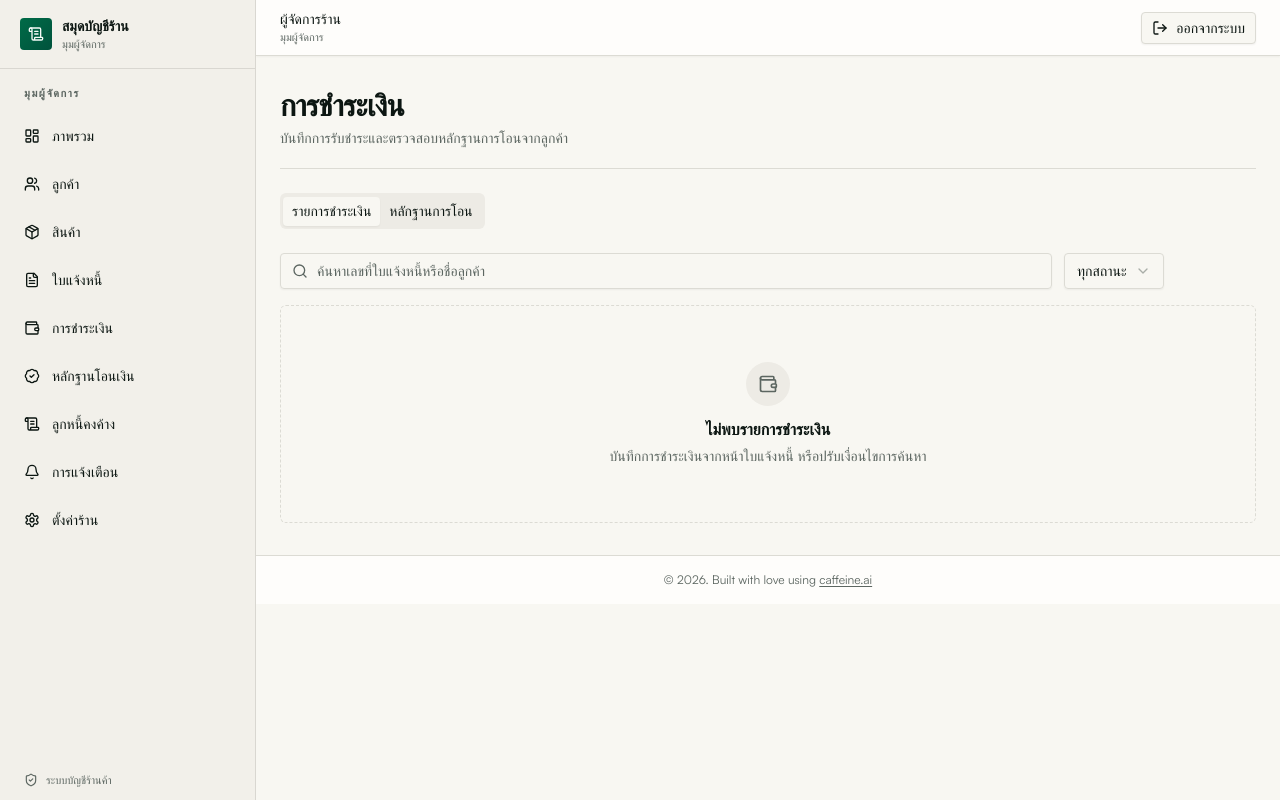
Test case: PaymentsPage › opens the review panel when a proof is selected
Click the tab with test id "payments.proofs_tab".
click(431, 211)  # box [380,196,482,226]
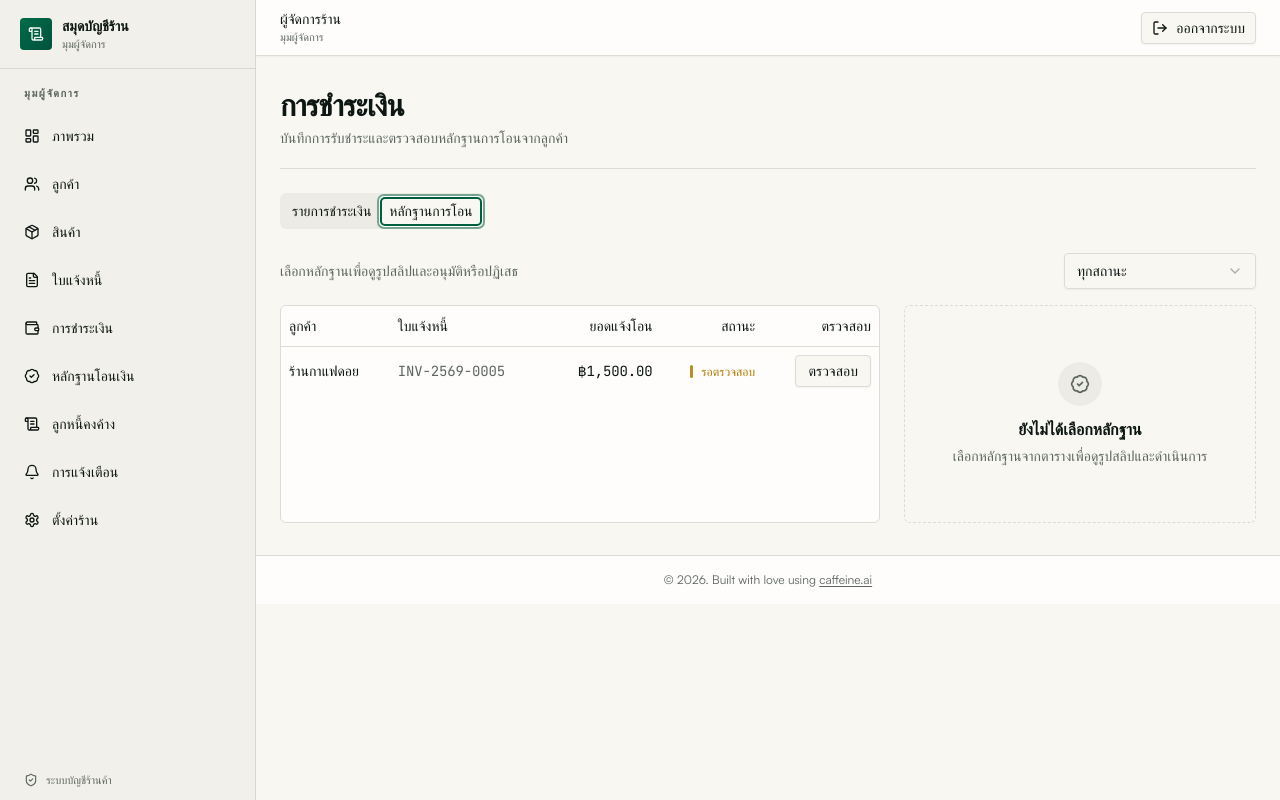
Click the button with test id "payments.review_button.1".
click(833, 370)  # box [795,354,871,386]
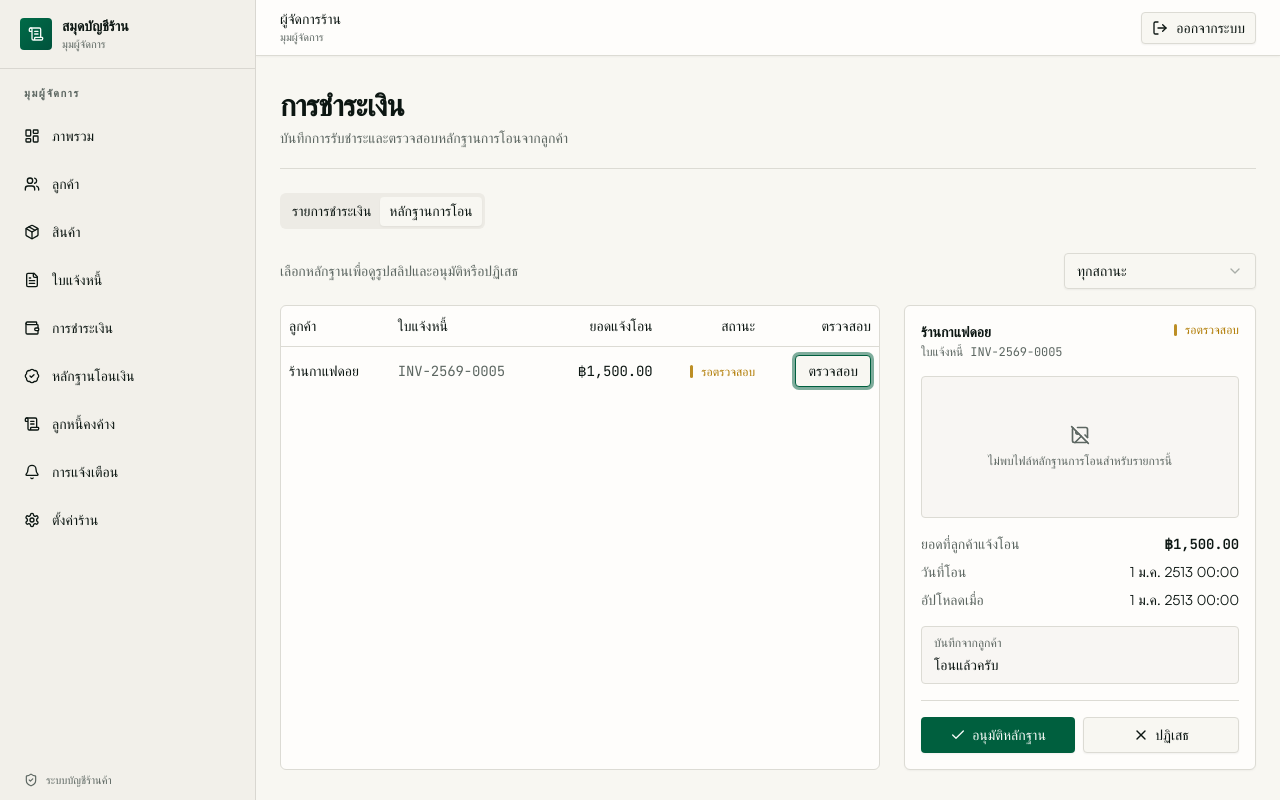
Check: the button with test id "proof.approve_button" is shown, box [921,717,1075,753]
Check: the text with test id "proof.amount" reads "฿1,500.00", box [1164,535,1239,553]
